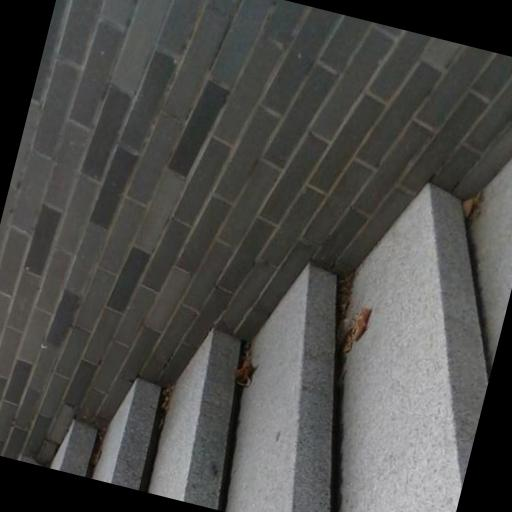stairs: (51, 185, 488, 511), (93, 379, 160, 490)
